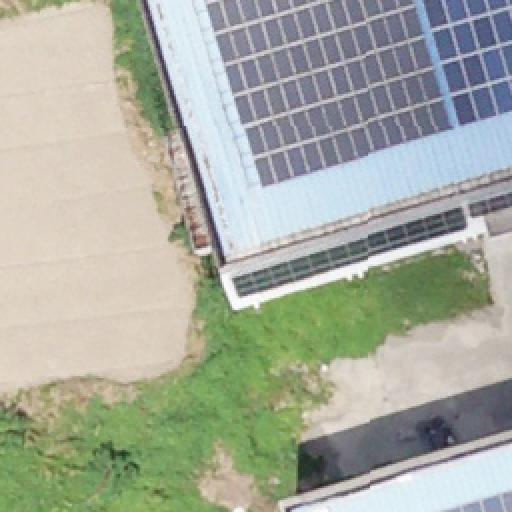solar-panel: (204, 0, 452, 188), (422, 1, 512, 127), (452, 492, 512, 512)
